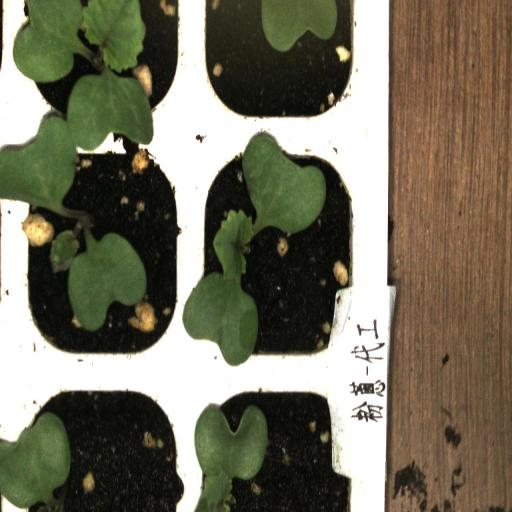seedling: (16, 120, 190, 378), (194, 124, 359, 376), (22, 0, 188, 121)
